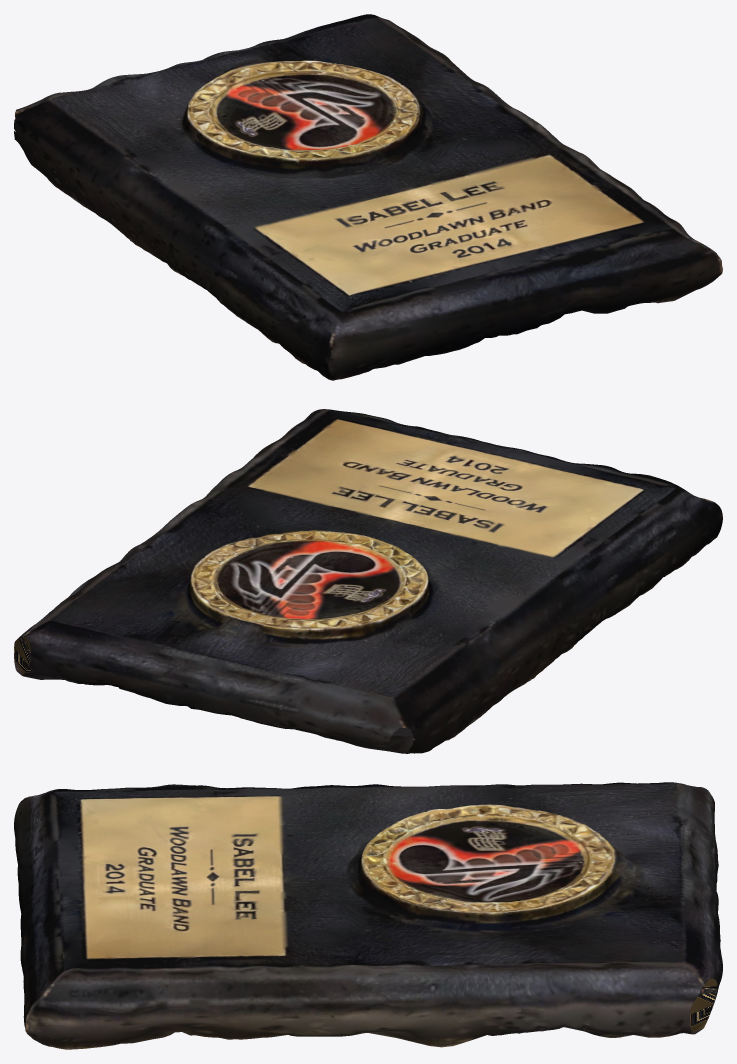
The model's file is band.fbx.
3 views of the same model, one above another, from view 1: azimuth 30°, elevation 25°; view 2: azimuth 150°, elevation 25°; view 3: azimuth 270°, elevation 25° (orthographic). The views are drawn at different scales.
Parts seen in each view (by area): view 1: Mesh_0; view 2: Mesh_0; view 3: Mesh_0.
Part boxes in pixels (x1,y1,x2,y2): Mesh_0: [14, 14, 722, 380]; Mesh_0: [14, 409, 722, 753]; Mesh_0: [14, 782, 722, 1049].
Bounding box in the file's own units: 14.03 × 2.73 × 19.36.
